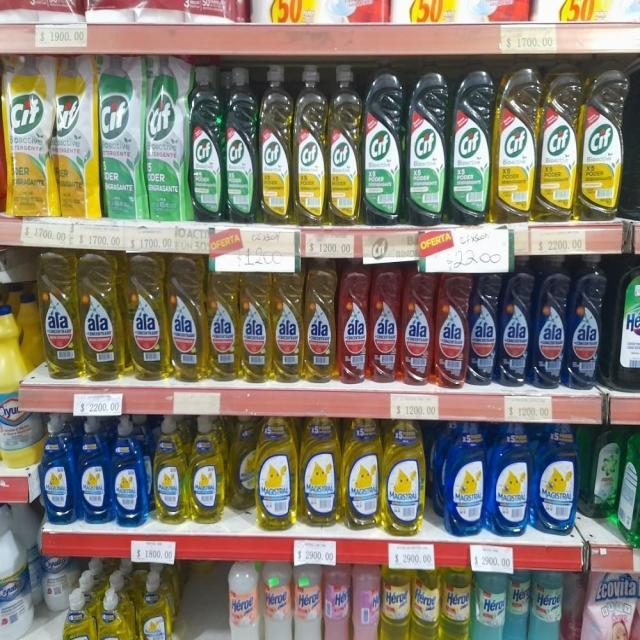ala_conc_amarillo: (81, 250, 123, 381), (125, 251, 167, 381), (38, 249, 79, 379), (168, 253, 206, 383), (304, 259, 336, 384), (207, 260, 239, 382), (272, 260, 303, 384), (240, 261, 271, 384)
ala_conc_azul: (568, 252, 604, 390), (533, 253, 567, 390), (500, 257, 532, 389), (469, 265, 499, 388)
ala_conc_rojo: (435, 263, 469, 390), (402, 261, 434, 388), (369, 262, 400, 387), (338, 259, 368, 385)
cif_conc_bot_amarilla: (580, 63, 624, 221), (494, 65, 537, 223), (539, 65, 578, 222), (328, 64, 361, 228), (293, 63, 326, 227), (259, 63, 292, 225)
cif_conc_botella_verde: (449, 66, 492, 225), (363, 66, 403, 228), (406, 68, 447, 226), (190, 64, 223, 223), (225, 65, 258, 224)
cif_conc_sachet_amarillo: (6, 54, 54, 218)
cif_conc_sachet_verde: (100, 54, 143, 220), (145, 54, 187, 222)
heroe: (227, 561, 261, 640), (528, 568, 562, 640), (262, 560, 292, 640), (380, 562, 410, 640), (470, 567, 502, 640), (440, 564, 470, 640), (294, 561, 322, 640), (323, 562, 351, 639), (411, 564, 439, 640), (503, 567, 527, 640)
magistral_con_amarillo: (383, 418, 426, 536), (257, 416, 297, 532), (342, 418, 382, 531), (300, 416, 340, 528), (190, 415, 226, 524), (153, 416, 187, 524), (228, 416, 256, 512), (138, 571, 172, 640), (98, 588, 134, 640), (62, 588, 96, 640)
magistral_con_azul: (442, 421, 486, 536), (534, 421, 578, 536), (488, 422, 531, 536), (112, 415, 148, 527), (41, 414, 75, 524), (77, 416, 110, 524)
